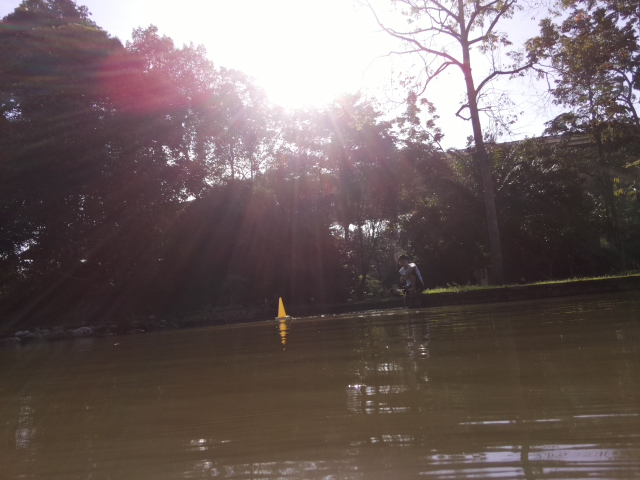checkpoint: (275, 295, 288, 319)
